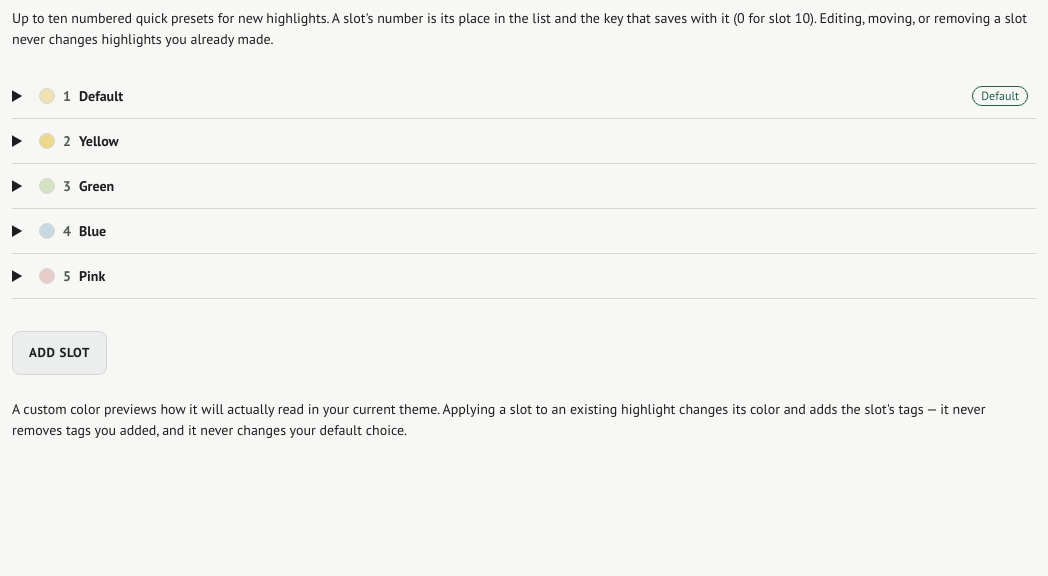
Test: HighlightSlotSettings — the settings accordion (issue #222) › explains only custom colors adjusted for readability, following the live draft
The width and height of the screenshot is (1048, 576).
Click the button "1 Default Default": point(101, 96) [12,74,1036,118]
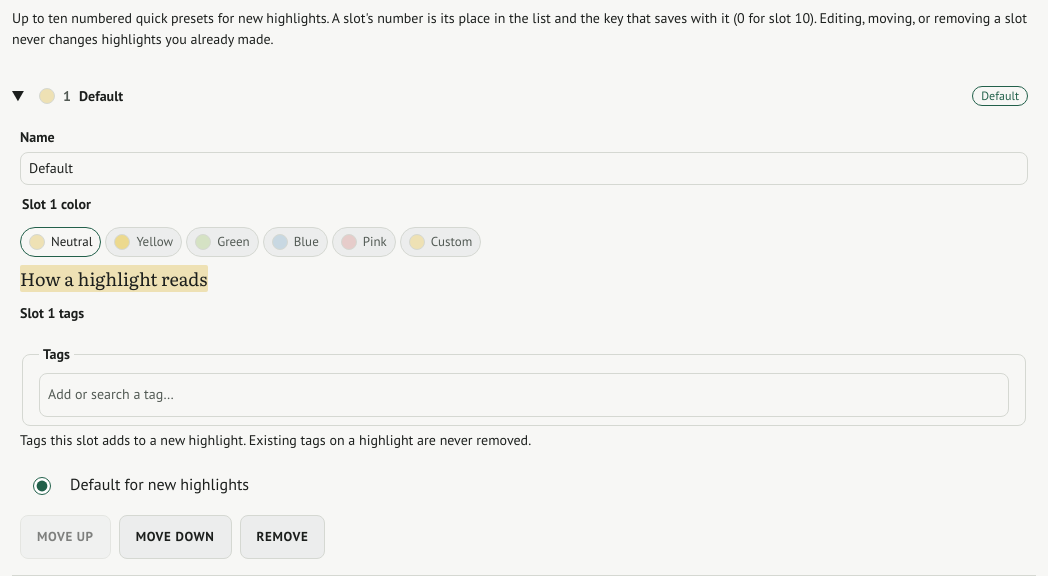
Click the radio button labelled "Custom": point(441, 242) [400,227,481,257]
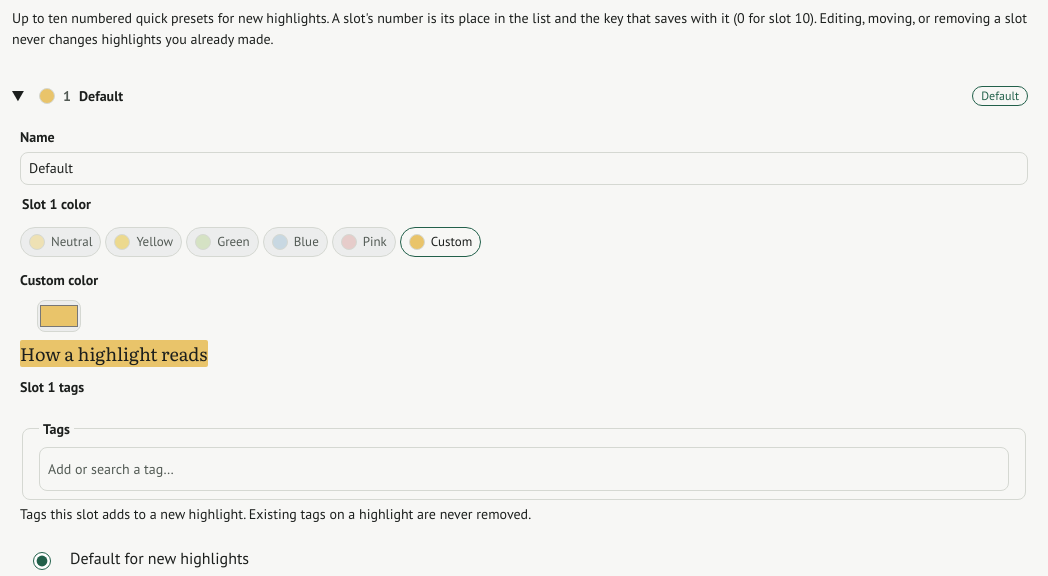
In the colour field named "Slot 1 custom color": point(59, 316) [37,300,81,332], type "#eeff00"
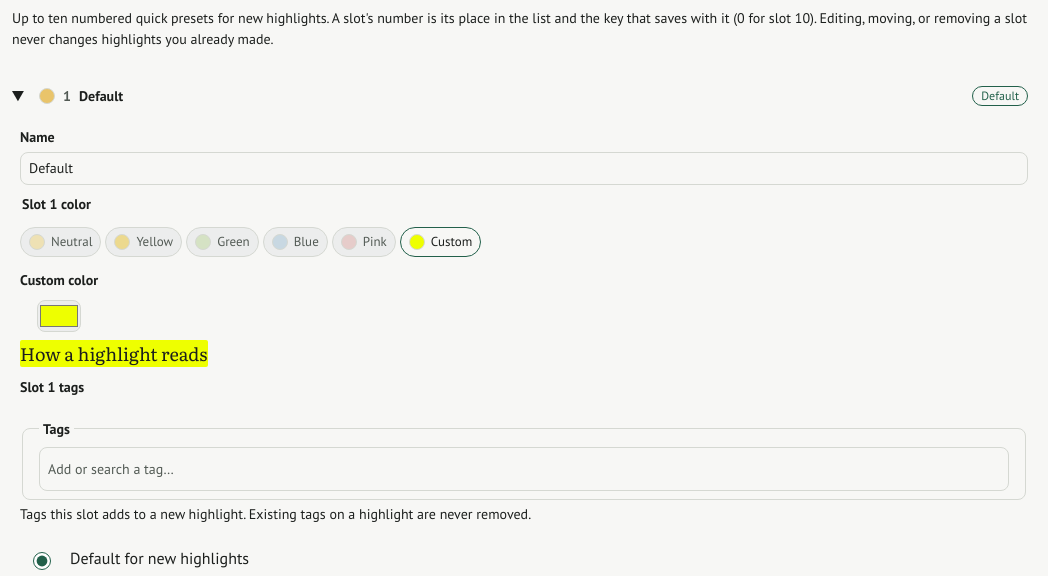
Check: the text "Color adjusted for text readability in this theme." is not shown
In the colour field named "Slot 1 custom color": point(59, 316) [37,300,81,332], type "#000000"
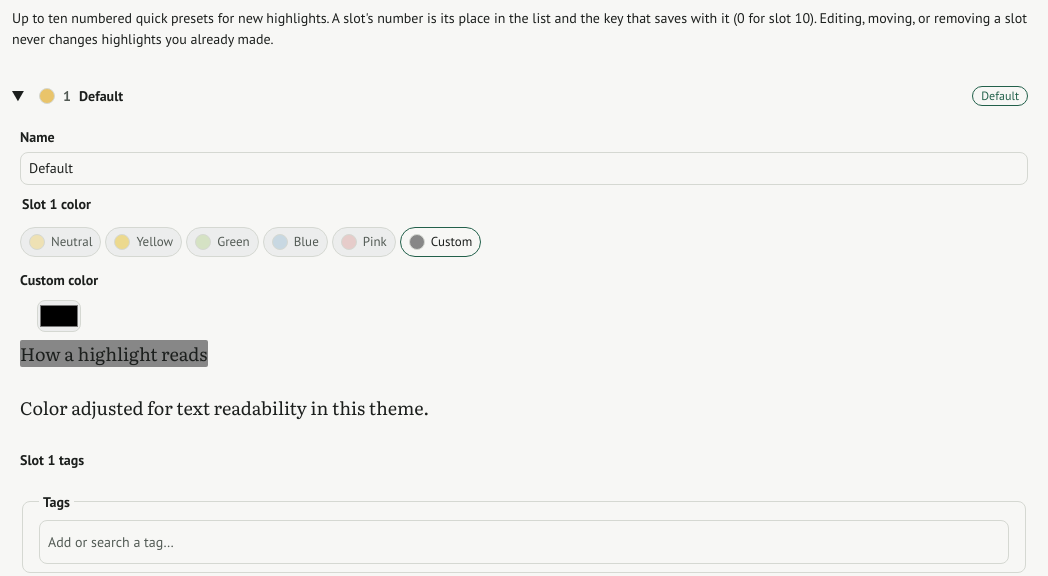
Check: the text "Color adjusted for text readability in this theme." is shown, box [20,394,429,421]
Click the radio button labelled "Yellow": point(144, 242) [105,227,182,257]
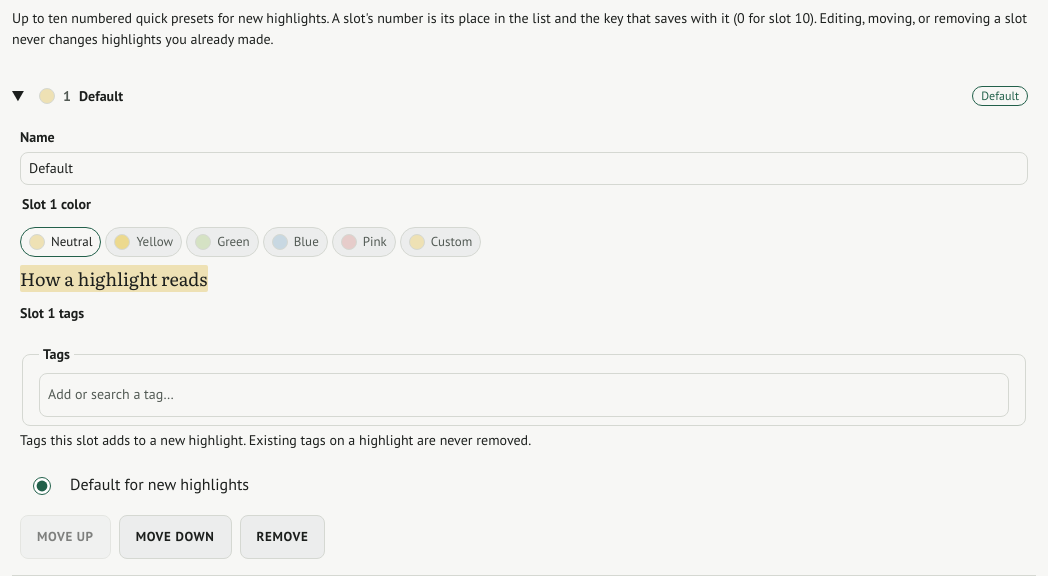
Check: the text "Color adjusted for text readability in this theme." is gone
